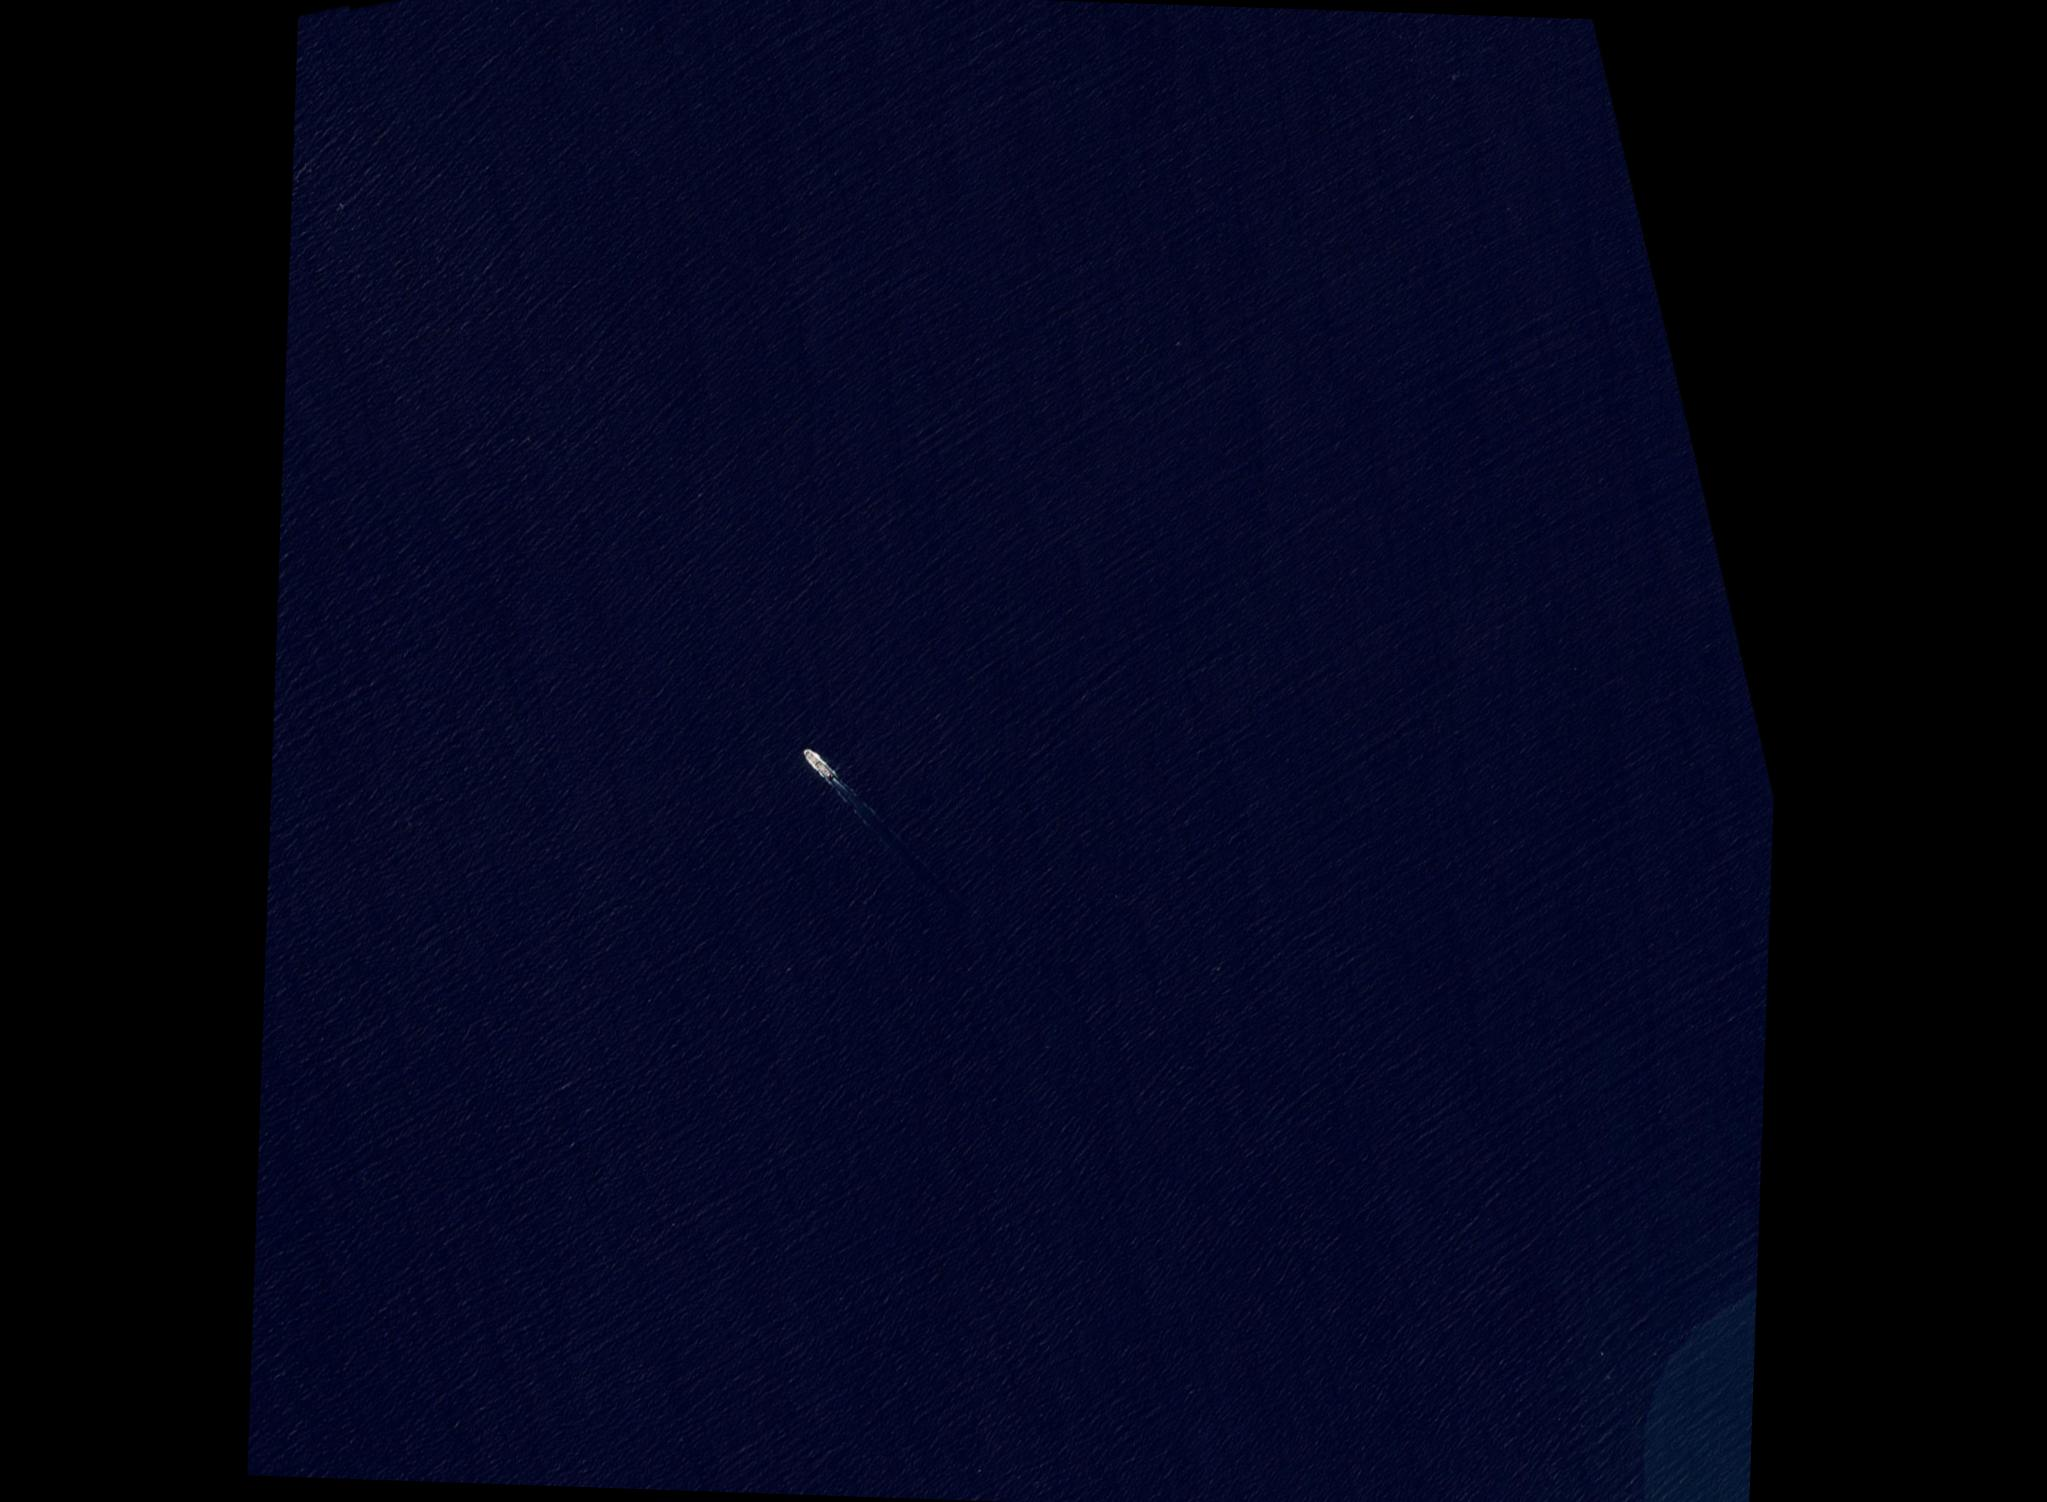ship: (818, 776, 989, 931), (801, 747, 834, 779)
